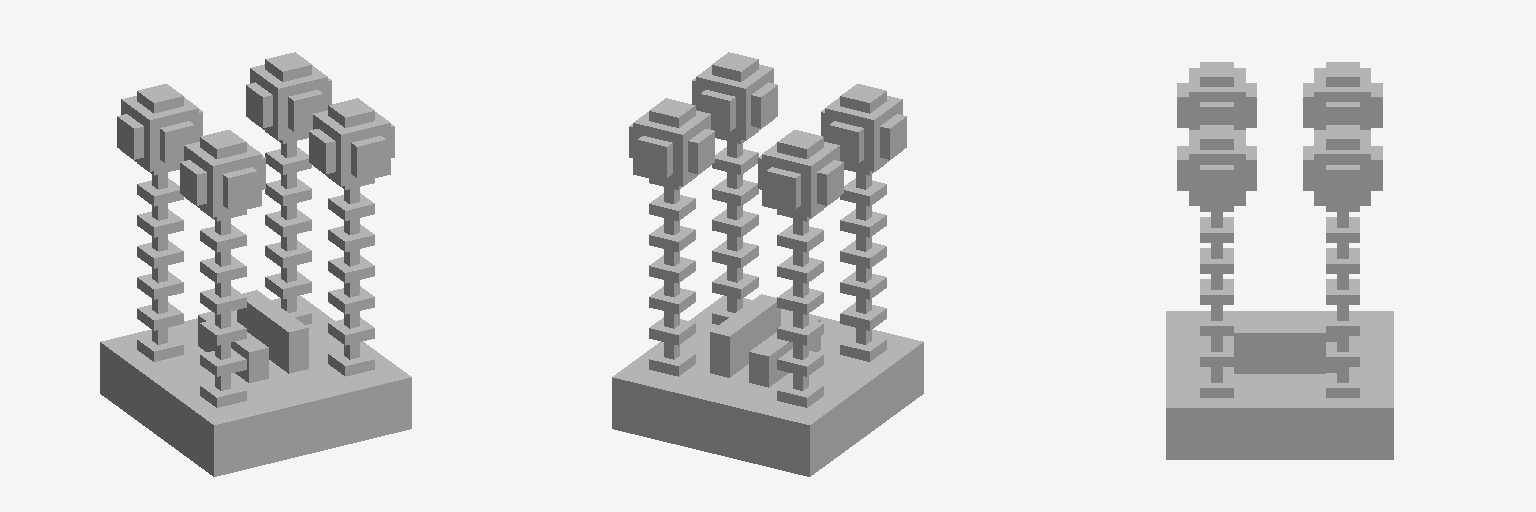
Rendered from ElectricTower.obj.
3 views of the same model, side by side, from view 1: azimuth 30°, elevation 25°; view 2: azimuth 150°, elevation 25°; view 3: azimuth 270°, elevation 25° (orthographic).
Parts seen in each view (by area): view 1: object 1; view 2: object 1; view 3: object 1.
Boxes of the visible parts, x1,y1,x2,y2 form: object 1: [100, 52, 411, 476]; object 1: [612, 52, 923, 476]; object 1: [1166, 62, 1393, 459].
Size of the model in its own units: 2 by 3 by 2.